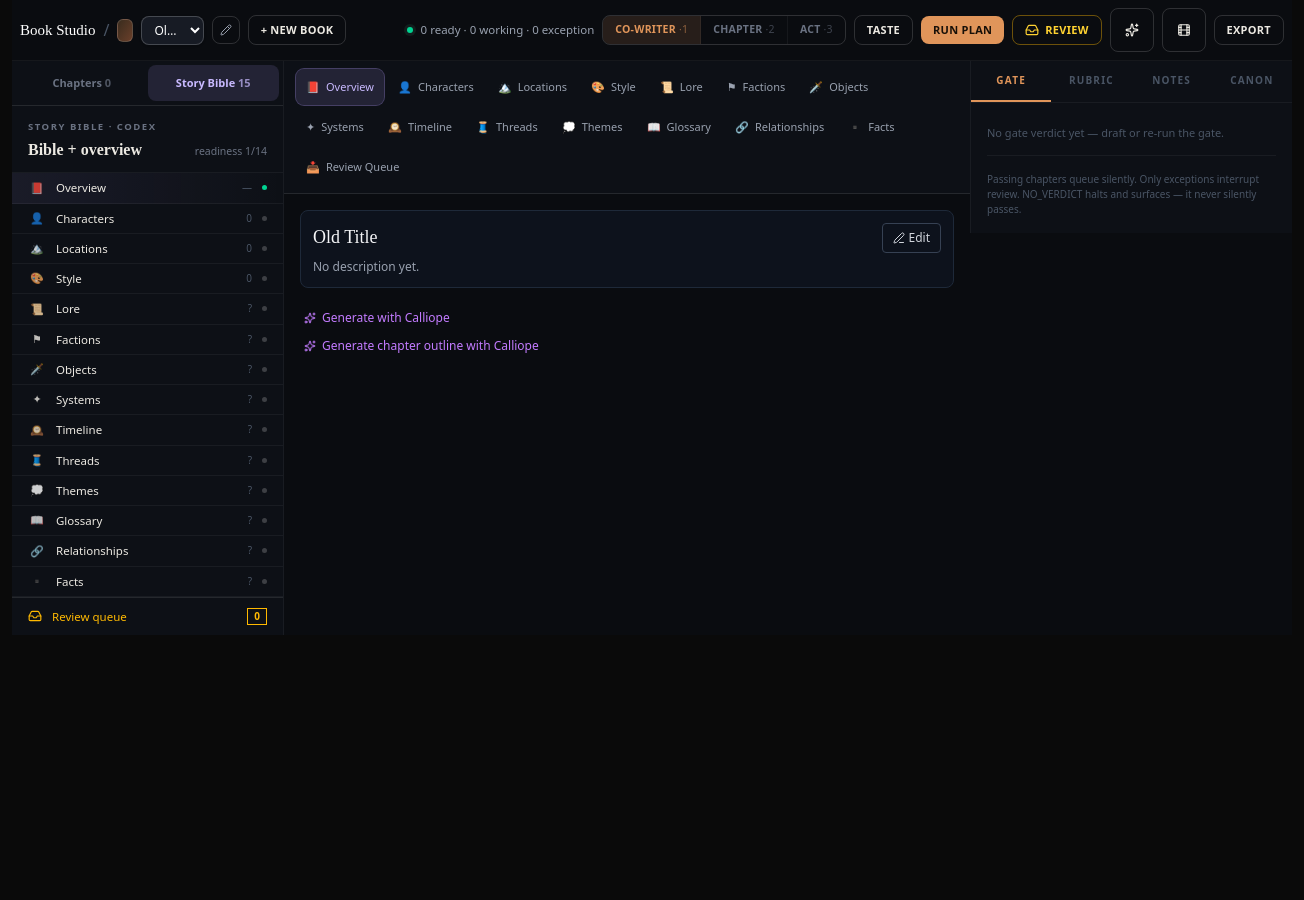
Test case: DirectorsDeckPage — + NEW BOOK create flow › sends mode changes with the active revision and visibly surfaces a conflict
Click the button "Chapter ·2": point(745, 30) x1=701 y1=16 x2=788 y2=44
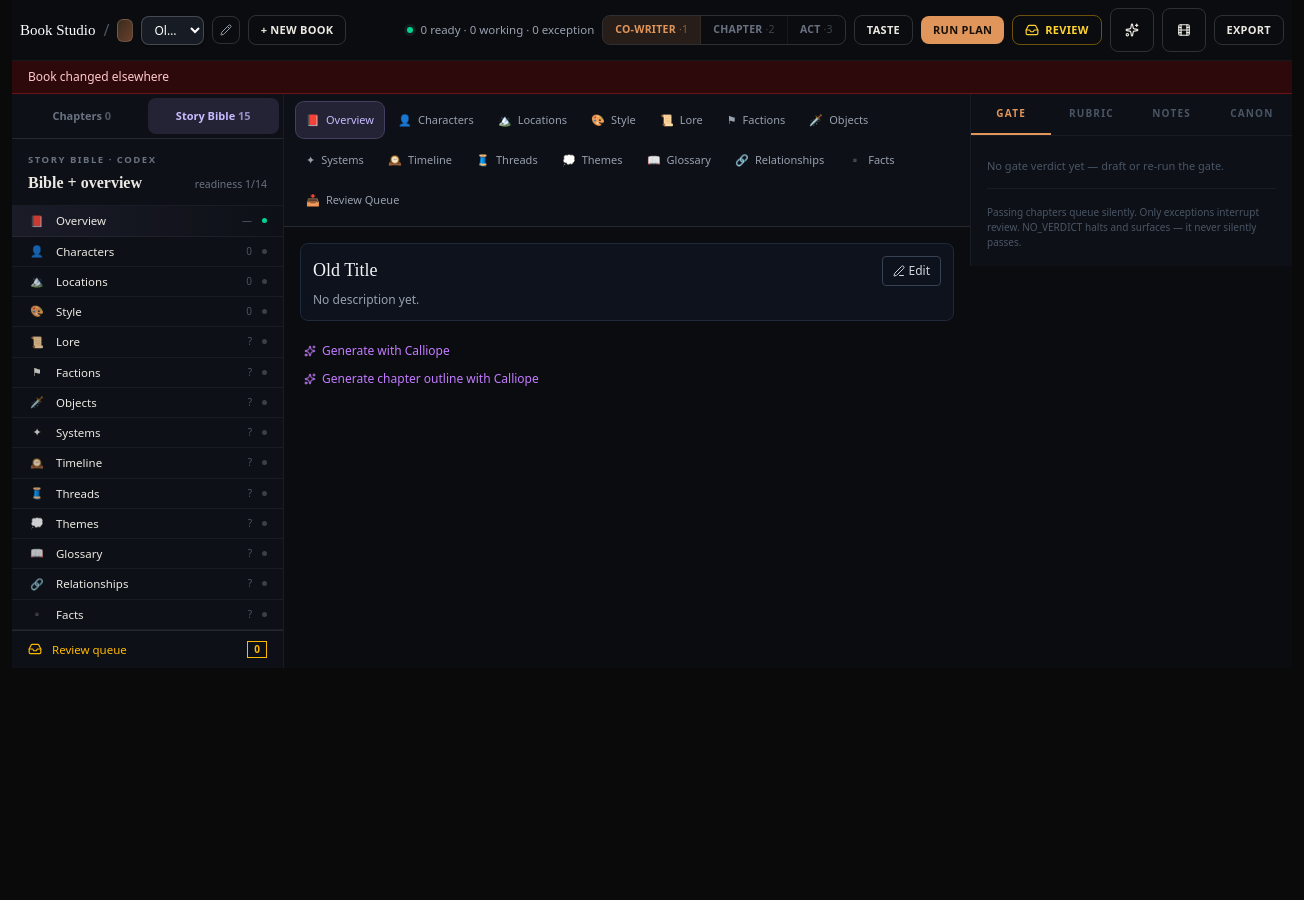
Expected: the message "Book changed elsewhere" is shown, x1=12 y1=61 x2=1292 y2=94
